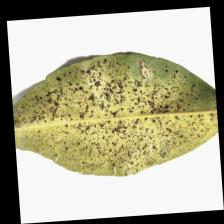canker: (73, 79, 162, 155)
